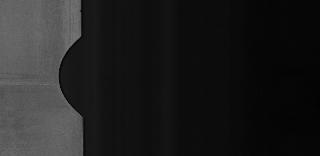welding line: (1, 76, 67, 91)
